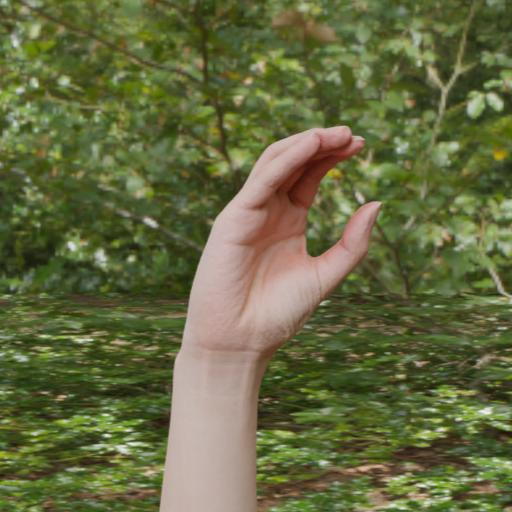C: (173, 115, 388, 348)
